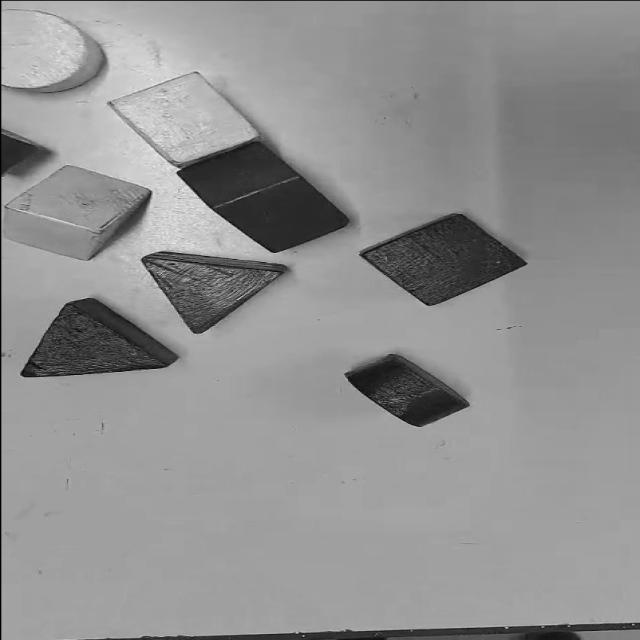bcircle: (343, 354, 469, 428)
bcube: (360, 214, 522, 305)
btriangle: (22, 299, 178, 376)
rcube: (177, 142, 350, 253)
rtriangle: (140, 252, 289, 335)
ycircle: (1, 8, 106, 94)
ycube: (108, 73, 260, 167)
ytriangle: (2, 164, 151, 260)
